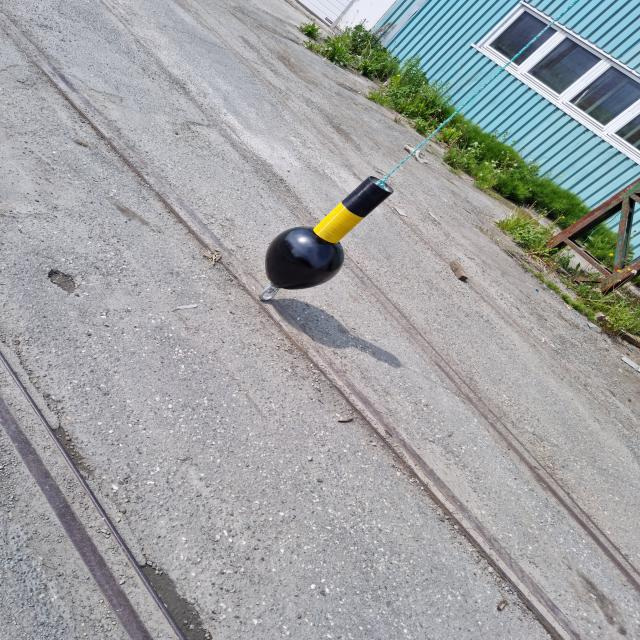east: (263, 175, 394, 290)
